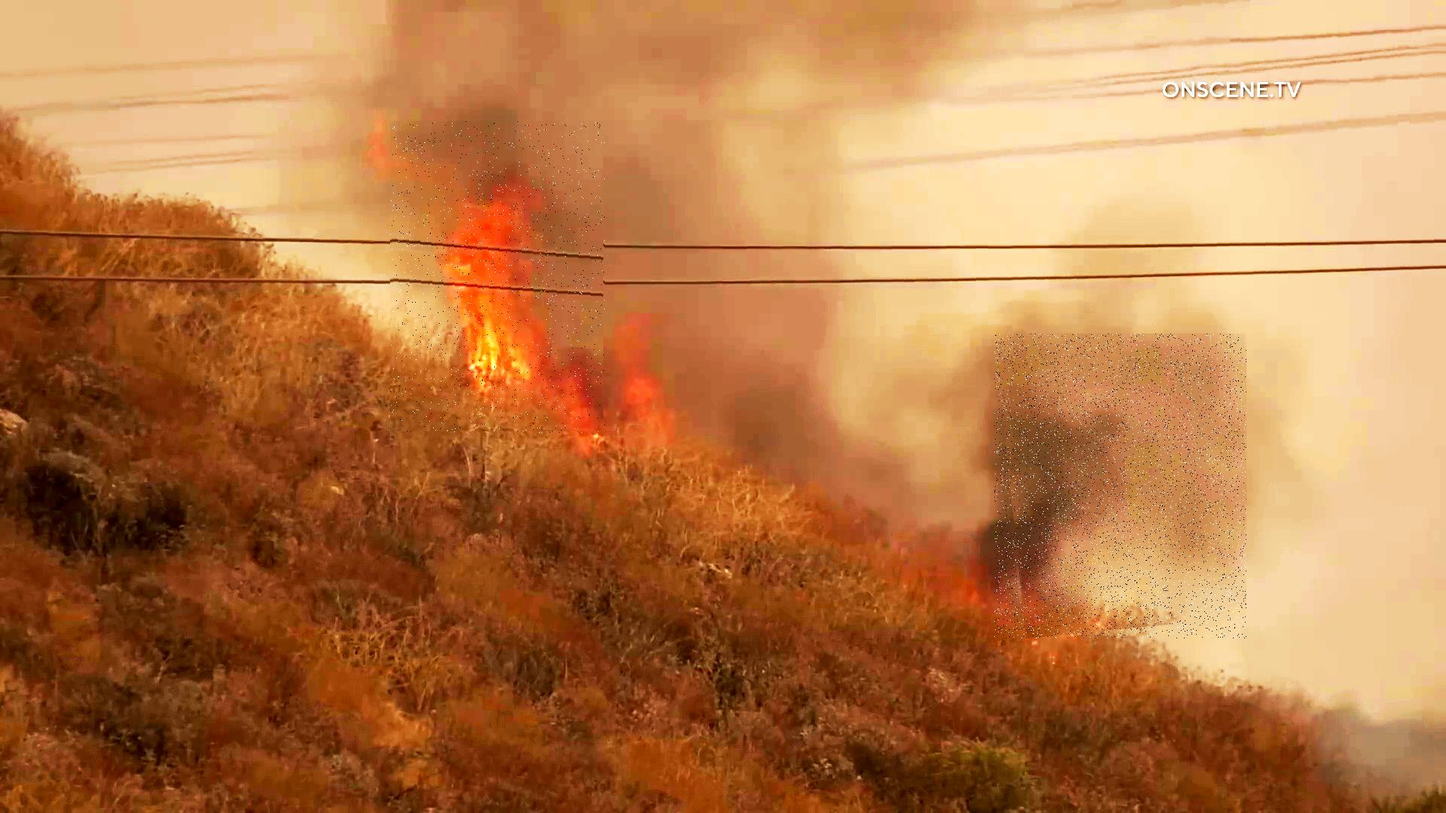fire: (391, 122, 605, 434)
smoke: (994, 334, 1246, 638)
